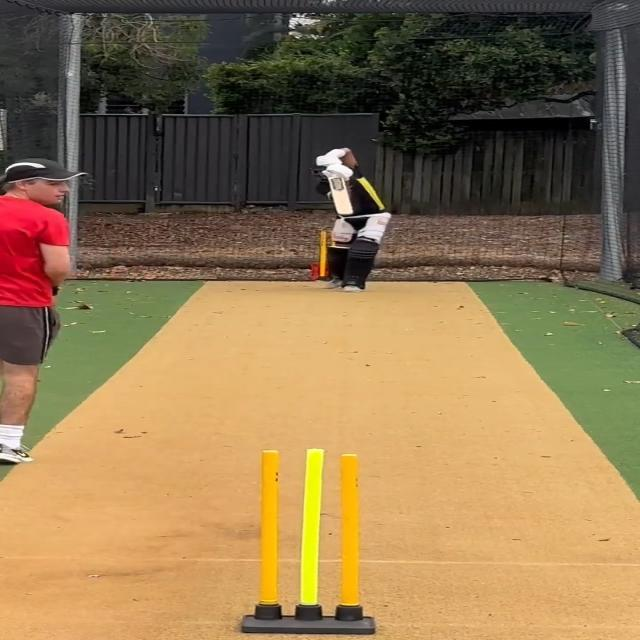stump: (238, 448, 379, 638)
